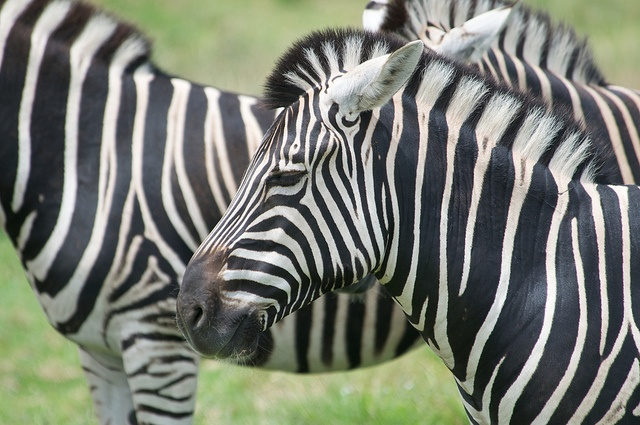zebra: (177, 29, 637, 425), (0, 1, 428, 423)
